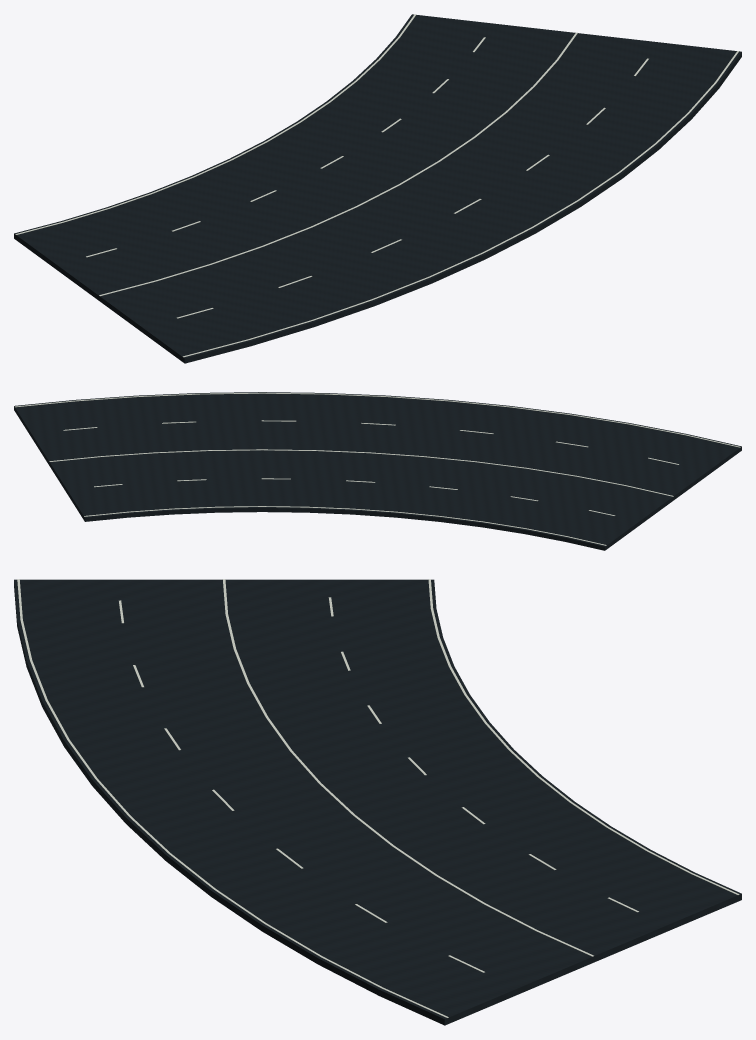
The model's file is Transit_Road_4L_Curve45_R36.glb.
3 renders of one model, top to bottom at view 1: azimuth 30°, elevation 25°; view 2: azimuth 150°, elevation 25°; view 3: azimuth 270°, elevation 25°, orthographic. The views are drawn at different scales.
Visible parts, largest first — view 1: Transit_Road_4L_Curve45_R36_Surface, Transit_Road_4L_Curve45_R36_MarkEdge-1, Transit_Road_4L_Curve45_R36_MarkLane2, Transit_Road_4L_Curve45_R36_MarkEdge+1; view 2: Transit_Road_4L_Curve45_R36_Surface, Transit_Road_4L_Curve45_R36_MarkEdge-1, Transit_Road_4L_Curve45_R36_MarkLane2, Transit_Road_4L_Curve45_R36_MarkEdge+1, Transit_Road_4L_Curve45_R36_MarkLane1, Transit_Road_4L_Curve45_R36_MarkLane3; view 3: Transit_Road_4L_Curve45_R36_Surface, Transit_Road_4L_Curve45_R36_MarkEdge-1, Transit_Road_4L_Curve45_R36_MarkLane2, Transit_Road_4L_Curve45_R36_MarkEdge+1.
Boxes of the visible parts, x1,y1,x2,y2 form: Transit_Road_4L_Curve45_R36_Surface: (14,14,741,363); Transit_Road_4L_Curve45_R36_MarkEdge-1: (182,51,739,357); Transit_Road_4L_Curve45_R36_MarkLane2: (99,32,577,296); Transit_Road_4L_Curve45_R36_MarkEdge+1: (15,14,416,234); Transit_Road_4L_Curve45_R36_Surface: (14,392,741,550); Transit_Road_4L_Curve45_R36_MarkEdge-1: (15,392,740,447); Transit_Road_4L_Curve45_R36_MarkLane2: (49,449,673,496); Transit_Road_4L_Curve45_R36_MarkEdge+1: (84,506,606,545); Transit_Road_4L_Curve45_R36_MarkLane1: (63,420,678,464); Transit_Road_4L_Curve45_R36_MarkLane3: (94,478,615,515); Transit_Road_4L_Curve45_R36_Surface: (14,579,741,1025); Transit_Road_4L_Curve45_R36_MarkEdge-1: (17,579,448,1017); Transit_Road_4L_Curve45_R36_MarkLane2: (223,579,593,956); Transit_Road_4L_Curve45_R36_MarkEdge+1: (428,579,739,894).
Size of the model in its own units: 29.7 by 0.212 by 20.79.
Materials: 2 (1 with a texture image).
